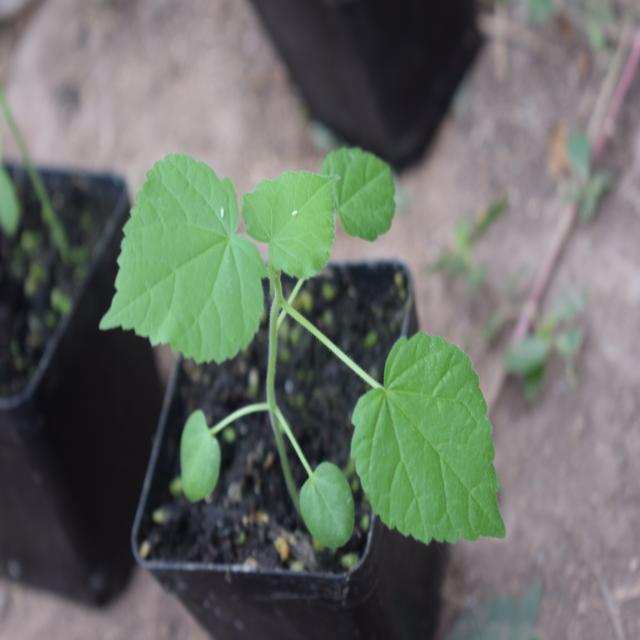abutilon theophrasti: (116, 137, 502, 564)
